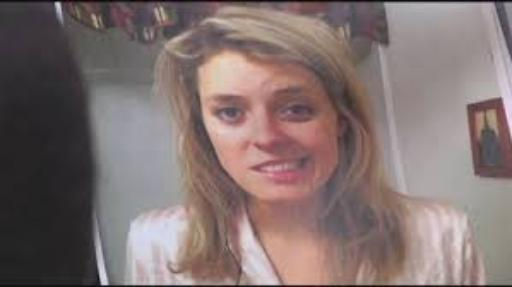left_eye: (278, 105, 317, 120)
left_lip_corner: (296, 155, 313, 167)
right_eye: (211, 107, 246, 123)
right_lip_corner: (248, 165, 262, 176)
